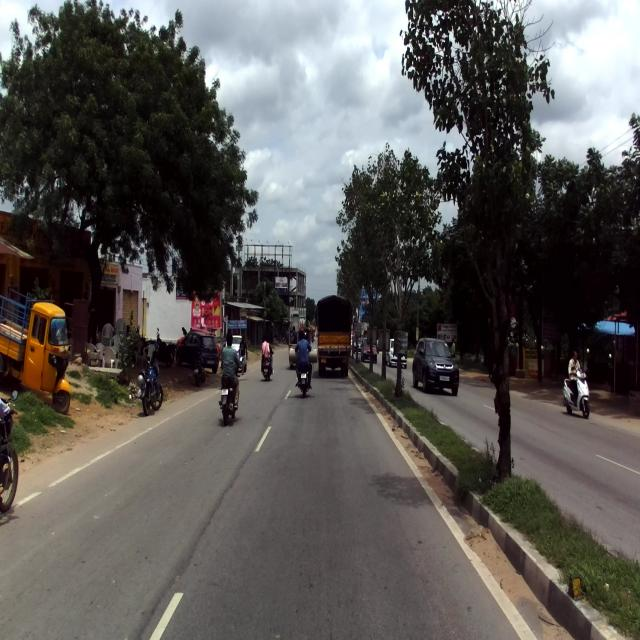Car_Maruti-Suzuki: (412, 336, 460, 396)
autorickshaw: (0, 285, 72, 414)
motorcycle_Honda: (218, 353, 245, 427)
motorcycle_bajaj: (136, 357, 164, 417)
truck: (316, 289, 352, 380)
